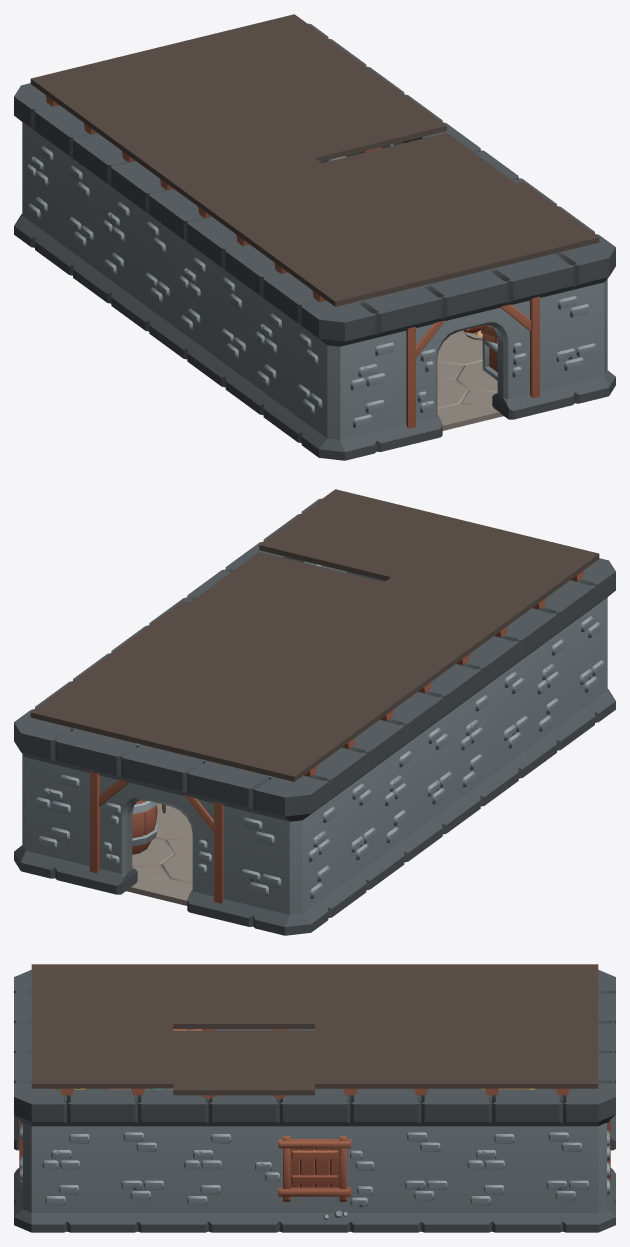
Rendered from coridor3.glb.
3 views of the same model, one above another, from view 1: azimuth 30°, elevation 25°; view 2: azimuth 150°, elevation 25°; view 3: azimuth 270°, elevation 25° (orthographic). The views are drawn at different scales.
Parts seen in each view (by area): view 1: wall_corner.002, wall_doorway_scaffold.001, wall.001, wall_shelves, wall, ceiling_tile.002, wall_corner.003, ceiling_tile.001, ceiling_tile.005, ceiling_tile.007, ceiling_tile.006, ceiling_tile.003 (+6 smaller); view 2: wall_corner.001, wall_doorway_scaffold, wall, wall.001, wall_shelves, ceiling_tile.006, wall_corner.004, ceiling_tile.004, ceiling_tile.001, ceiling_tile.003, ceiling_tile.002, ceiling_tile.007 (+6 smaller); view 3: wall_shelves.001, wall.003, wall_window_closed, wall_corner.004, wall_corner.003, ceiling_tile.001, ceiling_tile.004, ceiling_tile, ceiling_tile.005, ceiling_tile.003, ceiling_tile.002, ceiling_tile.006 (+5 smaller).
Part boxes in pixels (x1=…): wall_corner.002: x1=280, y1=285, x2=410, y2=460; wall_doorway_scaffold.001: x1=393, y1=261, x2=542, y2=444; wall.001: x1=128, y1=174, x2=229, y2=373; wall_shelves: x1=204, y1=230, x2=305, y2=429; wall: x1=52, y1=118, x2=152, y2=317; ceiling_tile.002: x1=259, y1=214, x2=467, y2=306; wall_corner.003: x1=525, y1=219, x2=615, y2=412; ceiling_tile.001: x1=391, y1=181, x2=599, y2=274; ceiling_tile.005: x1=239, y1=70, x2=446, y2=161; ceiling_tile.007: x1=106, y1=102, x2=314, y2=194; ceiling_tile.006: x1=30, y1=46, x2=238, y2=139; ceiling_tile.003: x1=183, y1=158, x2=390, y2=250; wall_corner.001: x1=219, y1=760, x2=349, y2=935; wall_doorway_scaffold: x1=87, y1=736, x2=236, y2=919; wall: x1=324, y1=705, x2=425, y2=904; wall.001: x1=400, y1=649, x2=501, y2=848; wall_shelves: x1=477, y1=593, x2=577, y2=792; ceiling_tile.006: x1=162, y1=689, x2=370, y2=781; wall_corner.004: x1=14, y1=694, x2=104, y2=887; ceiling_tile.004: x1=30, y1=656, x2=238, y2=749; ceiling_tile.001: x1=259, y1=489, x2=466, y2=580; ceiling_tile.003: x1=315, y1=577, x2=523, y2=669; ceiling_tile.002: x1=391, y1=521, x2=599, y2=614; ceiling_tile.007: x1=239, y1=633, x2=446, y2=725; wall_shelves.001: x1=385, y1=1089, x2=527, y2=1232; wall.003: x1=102, y1=1089, x2=244, y2=1232; wall_window_closed: x1=244, y1=1089, x2=385, y2=1232; wall_corner.004: x1=527, y1=1067, x2=615, y2=1232; wall_corner.003: x1=14, y1=1067, x2=102, y2=1232; ceiling_tile.001: x1=31, y1=1024, x2=173, y2=1095; ceiling_tile.004: x1=456, y1=1024, x2=598, y2=1095; ceiling_tile: x1=173, y1=1030, x2=314, y2=1099; ceiling_tile.005: x1=315, y1=1024, x2=456, y2=1095; ceiling_tile.003: x1=173, y1=964, x2=314, y2=1030; ceiling_tile.002: x1=31, y1=964, x2=173, y2=1023; ceiling_tile.006: x1=456, y1=964, x2=598, y2=1023.
Bounding box in the file's own units: 9 × 4.5 × 17.
21 materials, 21 textured.
